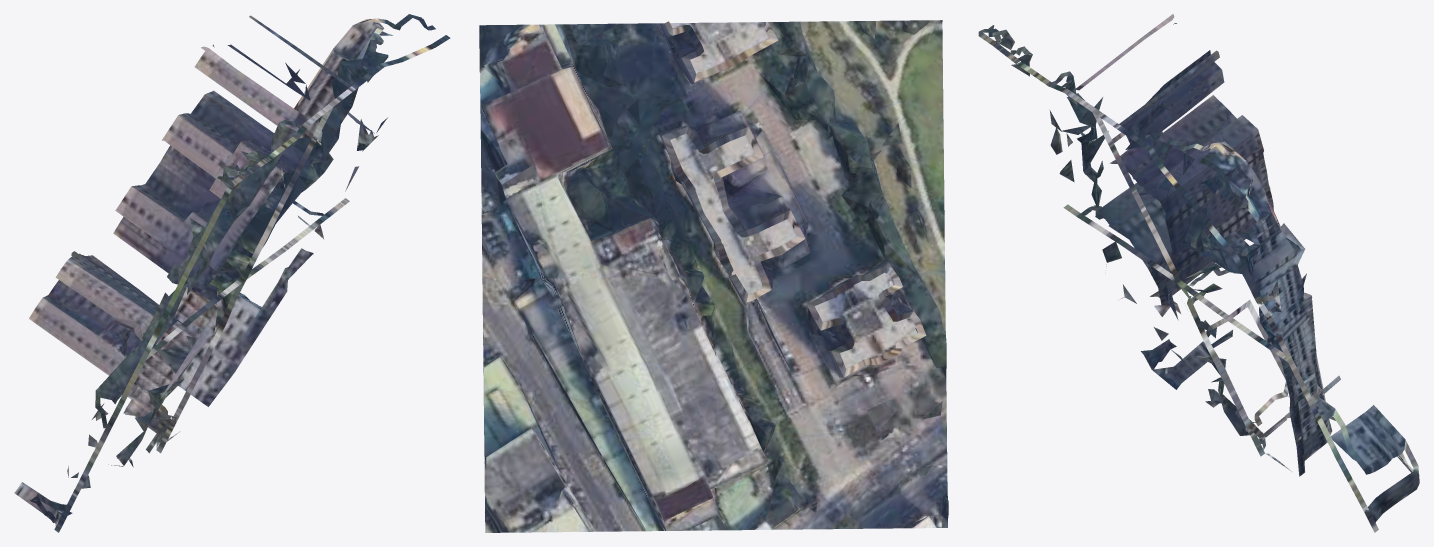
The picture shows the model from 3 angles, left to right: view 1: azimuth 30°, elevation 25°; view 2: azimuth 150°, elevation 25°; view 3: azimuth 270°, elevation 25°; orthographic projection. The views are drawn at different scales.
Bounding box in the file's own units: 161 × 157 × 143.
Materials: 1 (1 with a texture image).
